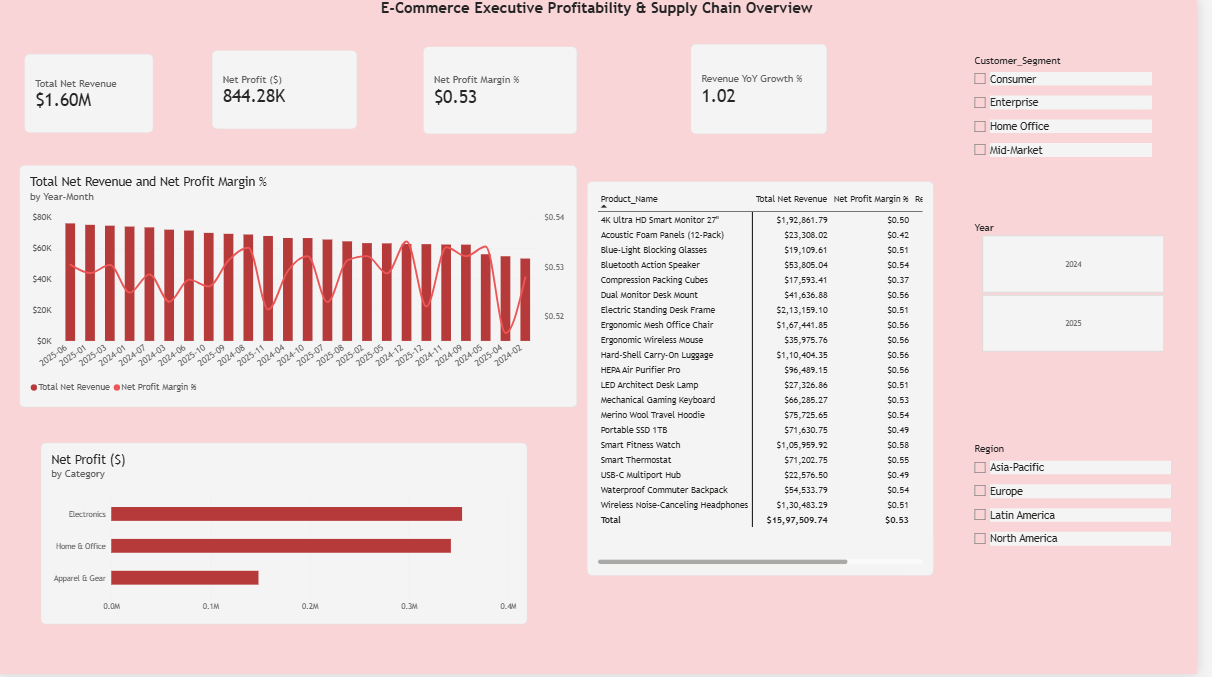

The dashboard page shown, as its layout file describes it:
{"tool":"powerbi","page":{"name":"Executive Profitability","canvas":[1920,1080],"ordinal":0},"visuals":[{"type":"textbox","box":[546.5,0,827,63.3],"z":0},{"type":"cardVisual","fields":{"Data":["_Measures.Total Net Revenue"]},"box":[44,88,206.3,126.7],"z":1000},{"type":"cardVisual","fields":{"Data":["_Measures.Net Profit ($)"]},"box":[344,82,232,126],"z":2000},{"type":"cardVisual","fields":{"Data":["_Measures.Net Profit Margin %"]},"box":[682,76,246,140],"z":3000},{"type":"cardVisual","fields":{"Data":["_Measures.Revenue YoY Growth %"]},"box":[1110,72,218,144],"z":4000},{"type":"slicer","fields":{"Values":["Dim_Calendar.Year"]},"box":[1556,356,330,210],"z":5000},{"type":"slicer","fields":{"Values":["Dim_Customers.Region"]},"box":[1556,710,322,256],"z":6000},{"type":"slicer","fields":{"Values":["Dim_Customers.Customer_Segment"]},"box":[1556,88,292,256],"z":7000},{"type":"lineClusteredColumnComboChart","fields":{"Category":["Dim_Calendar.Year-Month"],"Y":["_Measures.Total Net Revenue"],"Y2":["_Measures.Net Profit Margin %"]},"box":[36,266,892.2,387.3],"z":8000},{"type":"clusteredBarChart","fields":{"Category":["Dim_Products.Category"],"Y":["_Measures.Net Profit ($)"]},"box":[70,710,778,290],"z":9000},{"type":"pivotTable","fields":{"Rows":["Dim_Products.Category","Dim_Products.Product_Name"],"Values":["_Measures.Total Net Revenue","_Measures.Net Profit Margin %","_Measures.Return Rate %"]},"box":[944,292,554,630],"z":10000}]}

Visuals, with their boxes in screenshot pixels (x1, y1, x2, y2), scaled from the page's 1920x1080 canvas onto the 1212x677 screenshot:
textbox: BBox(345, 0, 867, 40)
cardVisual - _Measures.Total Net Revenue: BBox(28, 55, 158, 135)
cardVisual - _Measures.Net Profit ($): BBox(217, 51, 364, 130)
cardVisual - _Measures.Net Profit Margin %: BBox(431, 48, 586, 135)
cardVisual - _Measures.Revenue YoY Growth %: BBox(701, 45, 838, 135)
slicer - Dim_Calendar.Year: BBox(982, 223, 1191, 355)
slicer - Dim_Customers.Region: BBox(982, 445, 1185, 606)
slicer - Dim_Customers.Customer_Segment: BBox(982, 55, 1167, 216)
lineClusteredColumnComboChart - Dim_Calendar.Year-Month x _Measures.Total Net Revenue: BBox(23, 167, 586, 410)
clusteredBarChart - Dim_Products.Category x _Measures.Net Profit ($): BBox(44, 445, 535, 627)
pivotTable - Dim_Products.Category x Dim_Products.Product_Name: BBox(596, 183, 946, 578)
